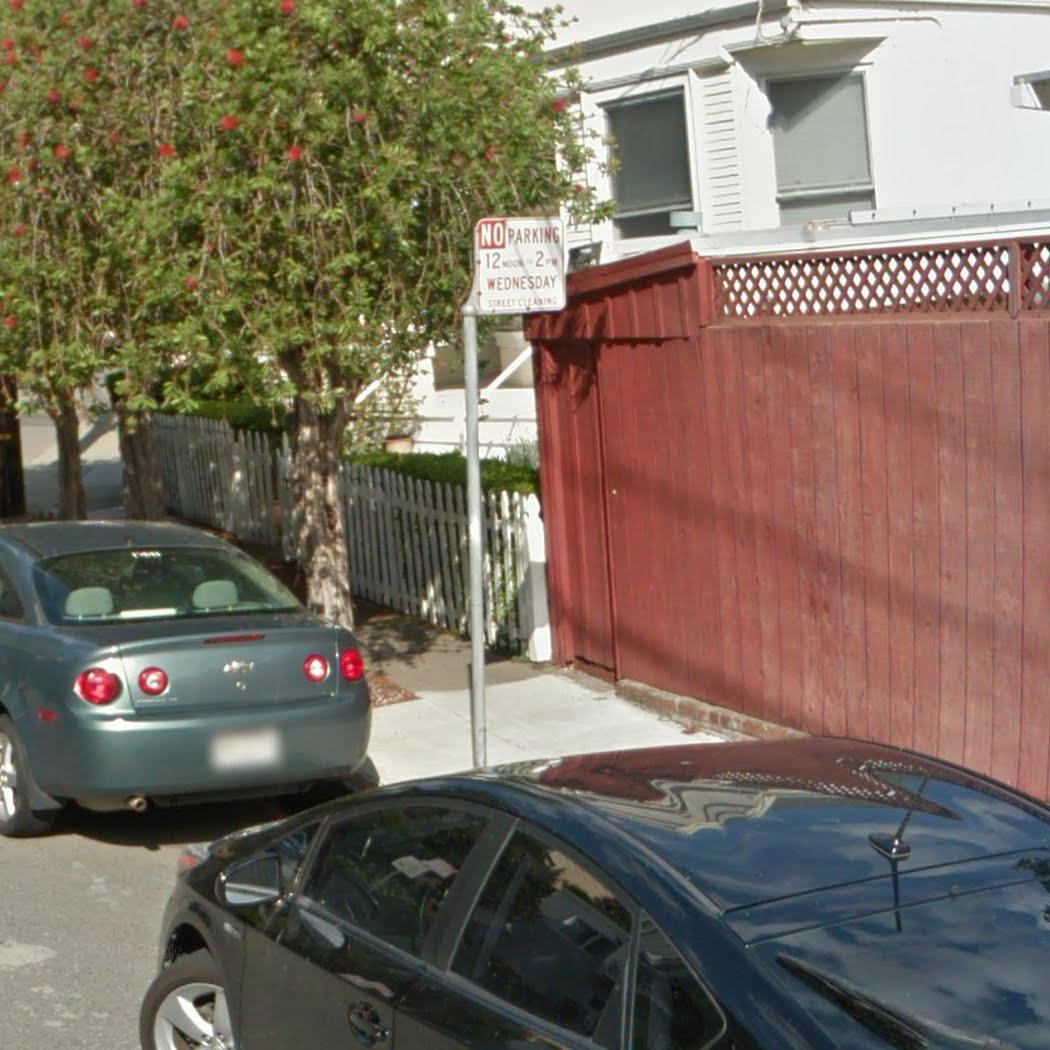No Parking: (467, 209, 572, 319)
